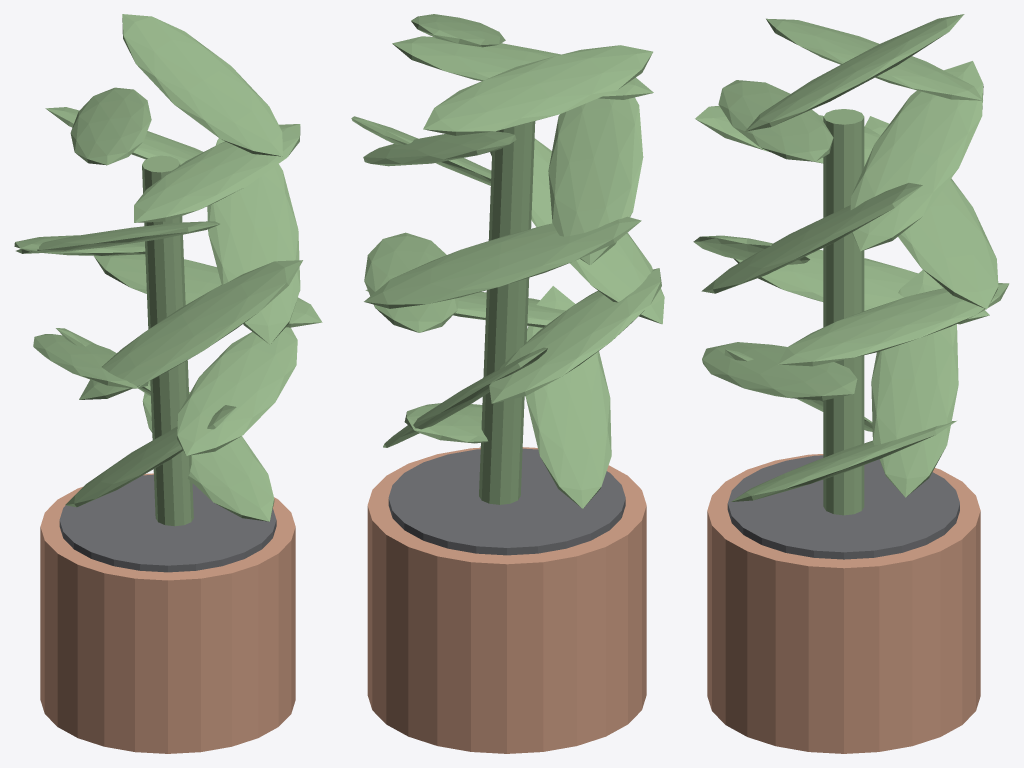
The model's file is plant_medium.glb.
3 renders of one model, left to right at view 1: azimuth 30°, elevation 25°; view 2: azimuth 150°, elevation 25°; view 3: azimuth 270°, elevation 25°, orthographic. The views are drawn at different scales.
Visible parts, largest first — view 1: TERRACOTTA_pot, DARK_soil, GREEN_leaf_13, GREEN_leaf_6, GREEN_leaf_8, GREEN_leaf_3, GREEN_stem, GREEN_leaf_11, GREEN_leaf_0, GREEN_leaf_12, GREEN_leaf_1, GREEN_leaf_5 (+4 smaller); view 2: TERRACOTTA_pot, DARK_soil, GREEN_stem, GREEN_leaf_9, GREEN_leaf_12, GREEN_leaf_7, GREEN_leaf_1, GREEN_leaf_4, GREEN_leaf_6, GREEN_leaf_11, GREEN_leaf_5, GREEN_leaf_10 (+5 smaller); view 3: TERRACOTTA_pot, DARK_soil, GREEN_leaf_10, GREEN_stem, GREEN_leaf_2, GREEN_leaf_5, GREEN_leaf_7, GREEN_leaf_3, GREEN_leaf_13, GREEN_leaf_8, GREEN_leaf_11, GREEN_leaf_12 (+4 smaller).
Boxes of the visible parts, left/top/right/bottom form: TERRACOTTA_pot: left=40, top=473, right=295, bottom=753; DARK_soil: left=59, top=474, right=276, bottom=572; GREEN_leaf_13: left=122, top=14, right=282, bottom=156; GREEN_leaf_6: left=79, top=260, right=302, bottom=399; GREEN_leaf_8: left=207, top=138, right=300, bottom=344; GREEN_leaf_3: left=177, top=327, right=297, bottom=455; GREEN_stem: left=142, top=155, right=193, bottom=526; GREEN_leaf_11: left=134, top=124, right=300, bottom=222; GREEN_leaf_0: left=142, top=392, right=274, bottom=521; GREEN_leaf_12: left=70, top=87, right=151, bottom=165; GREEN_leaf_1: left=65, top=405, right=236, bottom=507; GREEN_leaf_5: left=94, top=254, right=322, bottom=327; TERRACOTTA_pot: left=367, top=447, right=646, bottom=753; DARK_soil: left=388, top=448, right=625, bottom=555; GREEN_stem: left=479, top=121, right=535, bottom=504; GREEN_leaf_9: left=548, top=97, right=643, bottom=264; GREEN_leaf_12: left=423, top=45, right=652, bottom=135; GREEN_leaf_7: left=364, top=216, right=641, bottom=308; GREEN_leaf_1: left=525, top=286, right=611, bottom=508; GREEN_leaf_4: left=489, top=268, right=661, bottom=403; GREEN_leaf_6: left=490, top=138, right=664, bottom=324; GREEN_leaf_11: left=392, top=36, right=653, bottom=99; GREEN_leaf_5: left=364, top=232, right=458, bottom=332; GREEN_leaf_10: left=363, top=131, right=516, bottom=166; TERRACOTTA_pot: left=707, top=454, right=980, bottom=753; DARK_soil: left=727, top=455, right=959, bottom=559; GREEN_leaf_10: left=850, top=61, right=983, bottom=251; GREEN_stem: left=823, top=109, right=864, bottom=515; GREEN_leaf_2: left=871, top=270, right=958, bottom=497; GREEN_leaf_5: left=778, top=283, right=1009, bottom=366; GREEN_leaf_7: left=864, top=116, right=998, bottom=309; GREEN_leaf_3: left=702, top=342, right=858, bottom=400; GREEN_leaf_13: left=745, top=14, right=964, bottom=131; GREEN_leaf_8: left=701, top=183, right=922, bottom=293; GREEN_leaf_11: left=718, top=80, right=833, bottom=161; GREEN_leaf_12: left=766, top=18, right=982, bottom=100.
Bounding box in the file's own units: 0.716 × 1.67 × 0.6944.
